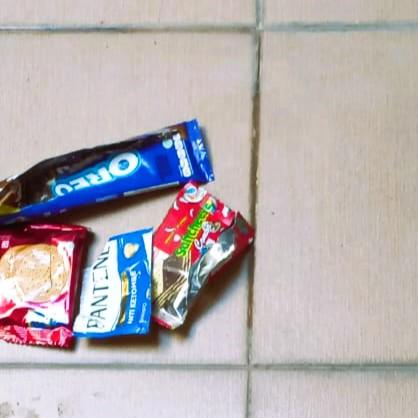Plastik: (0, 119, 215, 223), (152, 181, 256, 330), (0, 223, 87, 349), (71, 226, 151, 339)
